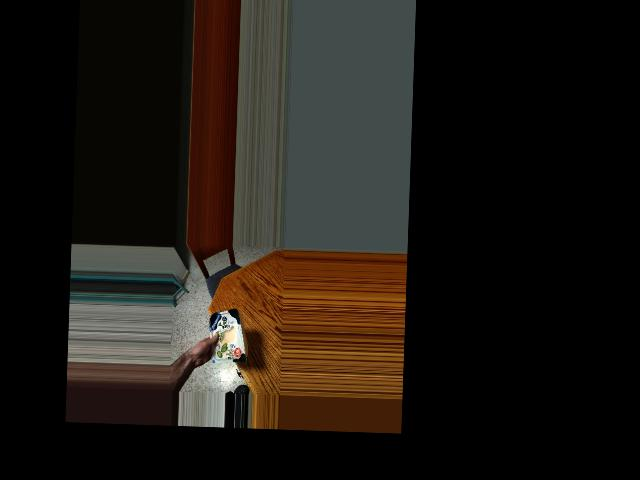cheese: (206, 308, 248, 363)
